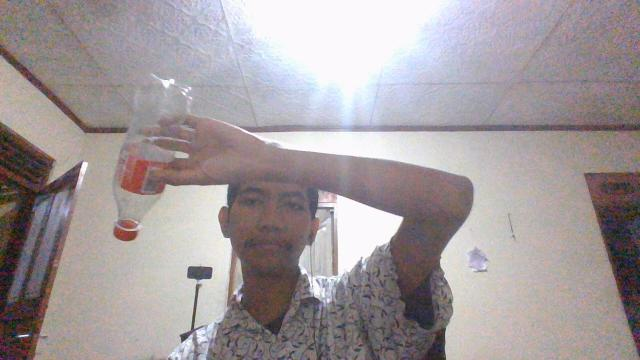coca-cola: (110, 75, 193, 242)
